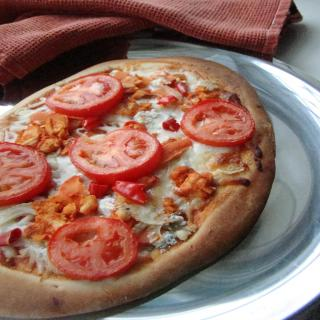tomato: (47, 215, 137, 279), (68, 128, 164, 184), (44, 72, 124, 120), (181, 101, 256, 150), (0, 142, 51, 204)
